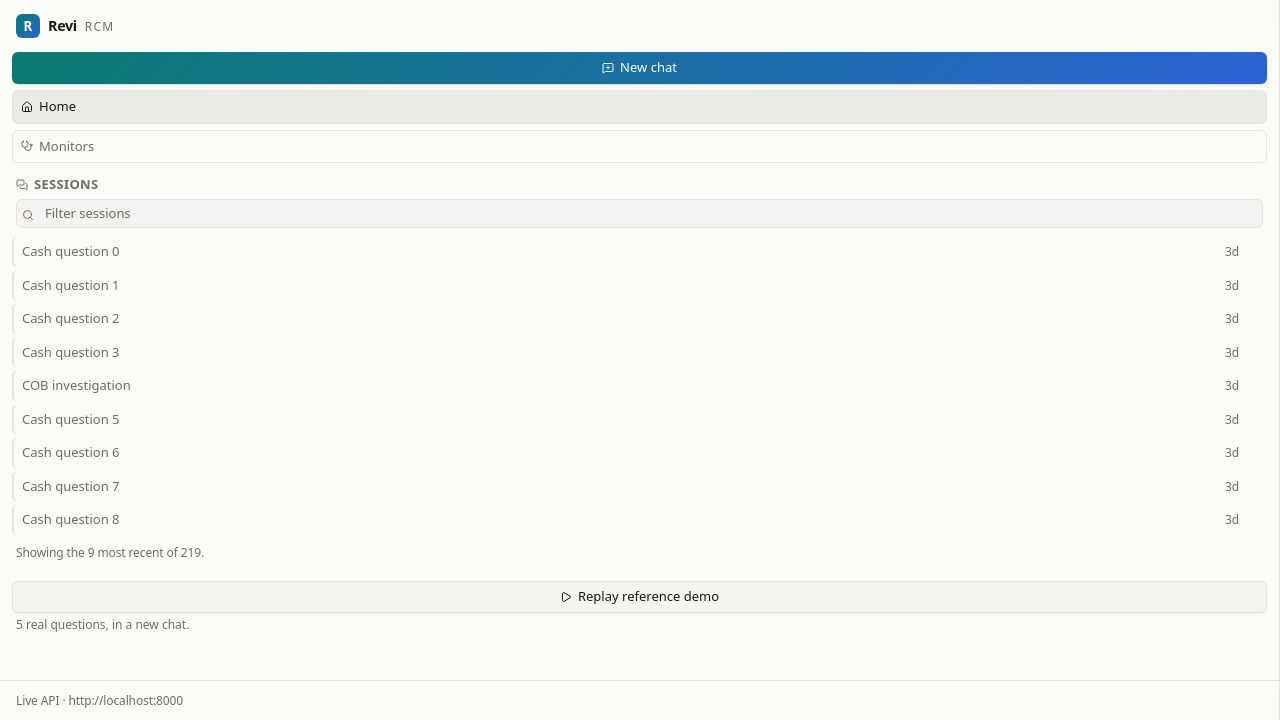
Test: SessionRail — finding a session in a long list › says which population it searched when nothing matches
The image size is (1280, 720).
Expected: the text "COB investigation" is shown, [22,376,131,396]
In the search field: coordinates (640, 213) [16,198,1263,228], type "zzz"
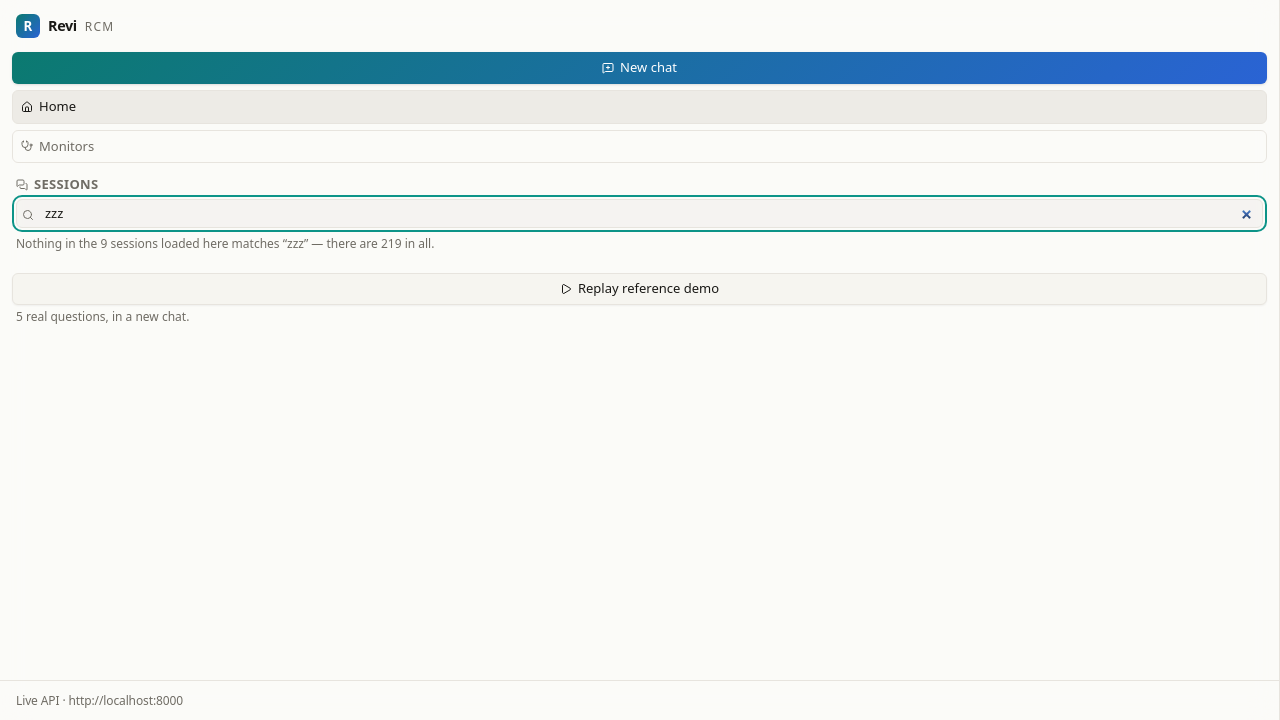
Expected: the text "Nothing in the 9 sessions loaded here matches" is shown, [16,235,434,252]
Expected: the text "there are 219 in all" is shown, [308,235,431,252]
